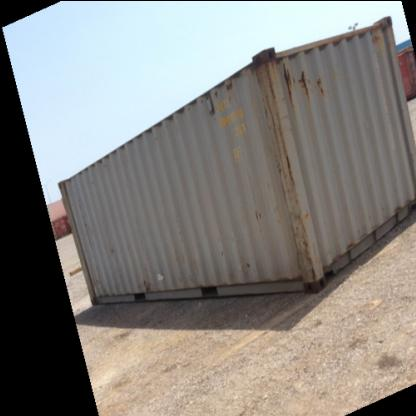Damage: (282, 206, 326, 286), (278, 62, 328, 103), (194, 74, 232, 115), (242, 47, 272, 91), (132, 258, 170, 288), (273, 144, 302, 182), (75, 192, 93, 249), (245, 203, 271, 228), (85, 273, 107, 295), (370, 26, 387, 48), (109, 241, 118, 258)
